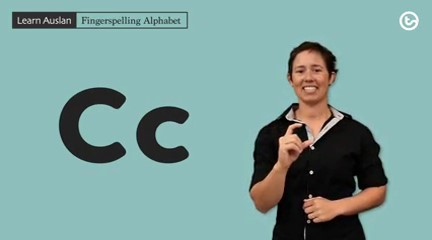C: (272, 122, 315, 165)
